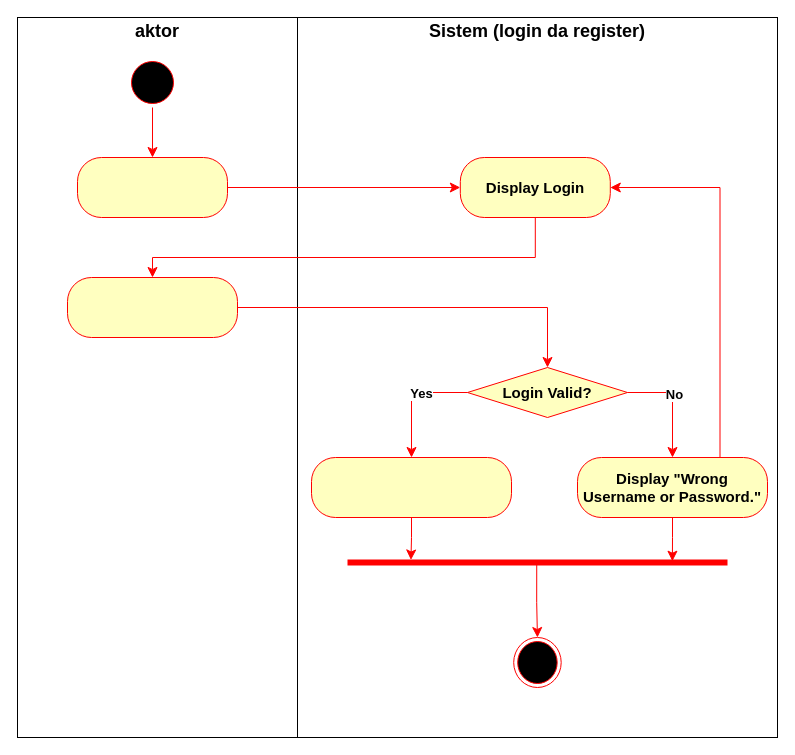
The diagram is 795 pixels wide and 755 high, and some of its shapes have lost their labels. The shapes that lost their labels are listed below. From the top down, each one's centre as x and y in pixels, then its label:
point (152, 187): Login
point (152, 307): Enter Username and Password
point (411, 487): Display "Succmessfully Logged In!"
